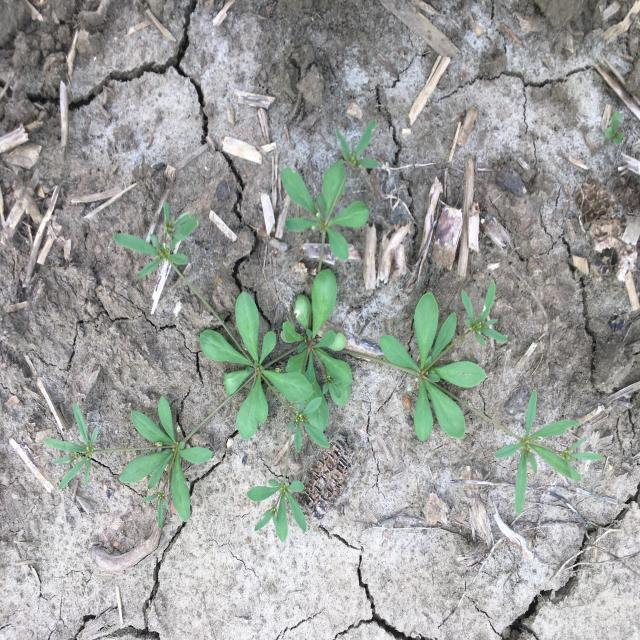Carpetweed: (43, 118, 605, 543)
